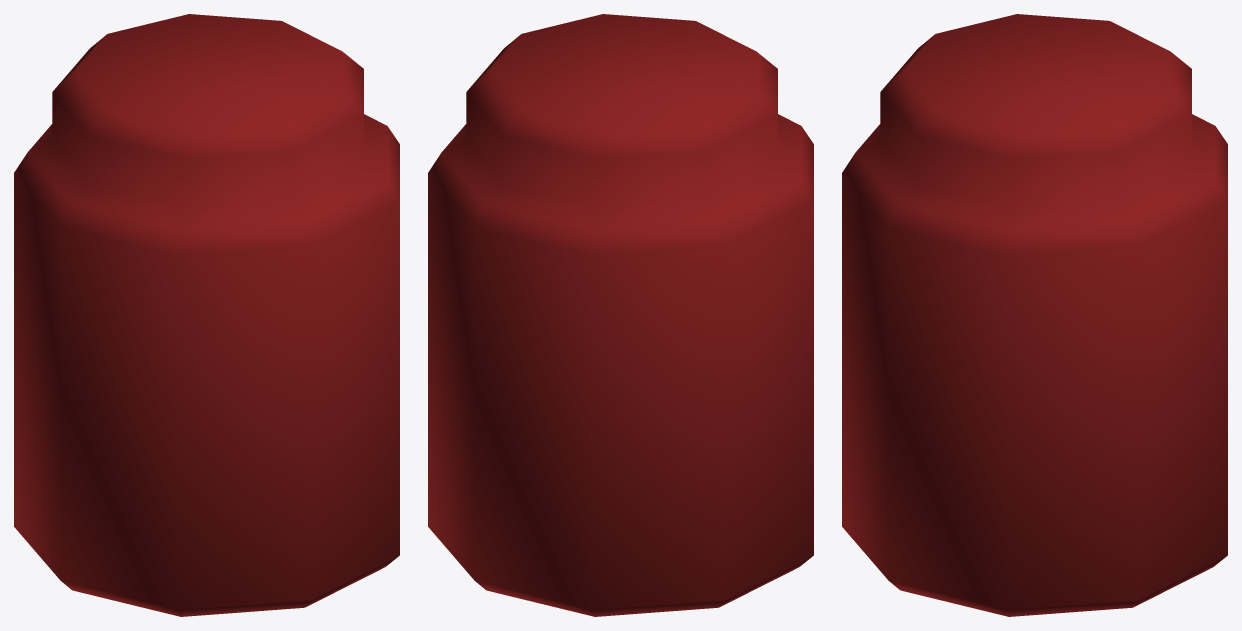
Rendered from Kitchen_JarSet.FBX.
3 renders of one model, left to right at view 1: azimuth 30°, elevation 25°; view 2: azimuth 150°, elevation 25°; view 3: azimuth 270°, elevation 25°, orthographic.
Visible parts, largest first — view 1: Kitchen_jar; view 2: Kitchen_jar; view 3: Kitchen_jar.
Part boxes in pixels (<box>): Kitchen_jar: <box>14,14,399,616</box>; Kitchen_jar: <box>428,14,813,616</box>; Kitchen_jar: <box>842,14,1227,616</box>.
Size of the model in its own units: 0.1594 by 0.2105 by 0.1569.
